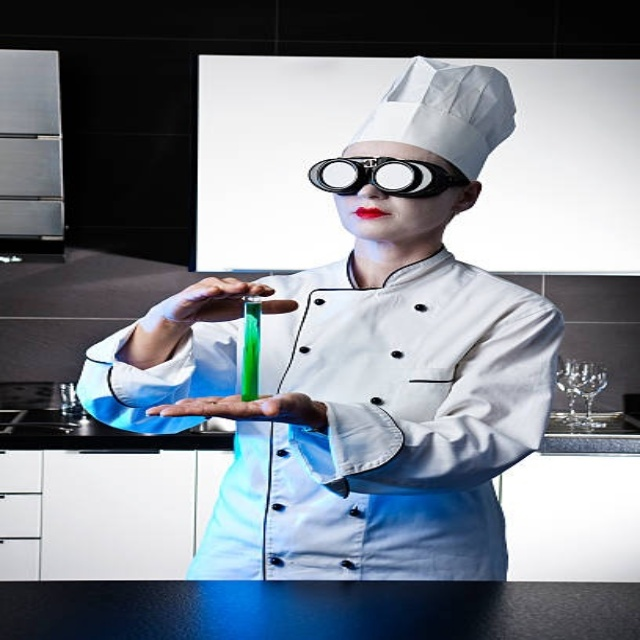Gafas: (308, 156, 471, 199)
Sin_guantes: (146, 276, 297, 331), (140, 385, 317, 427)
Sin_mascara: (342, 201, 403, 239)
